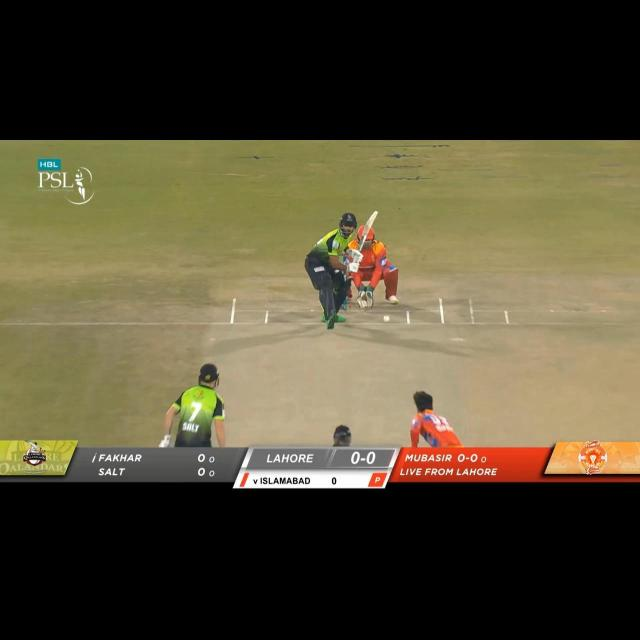bat: (356, 210, 378, 252)
toe: (364, 208, 382, 222)
